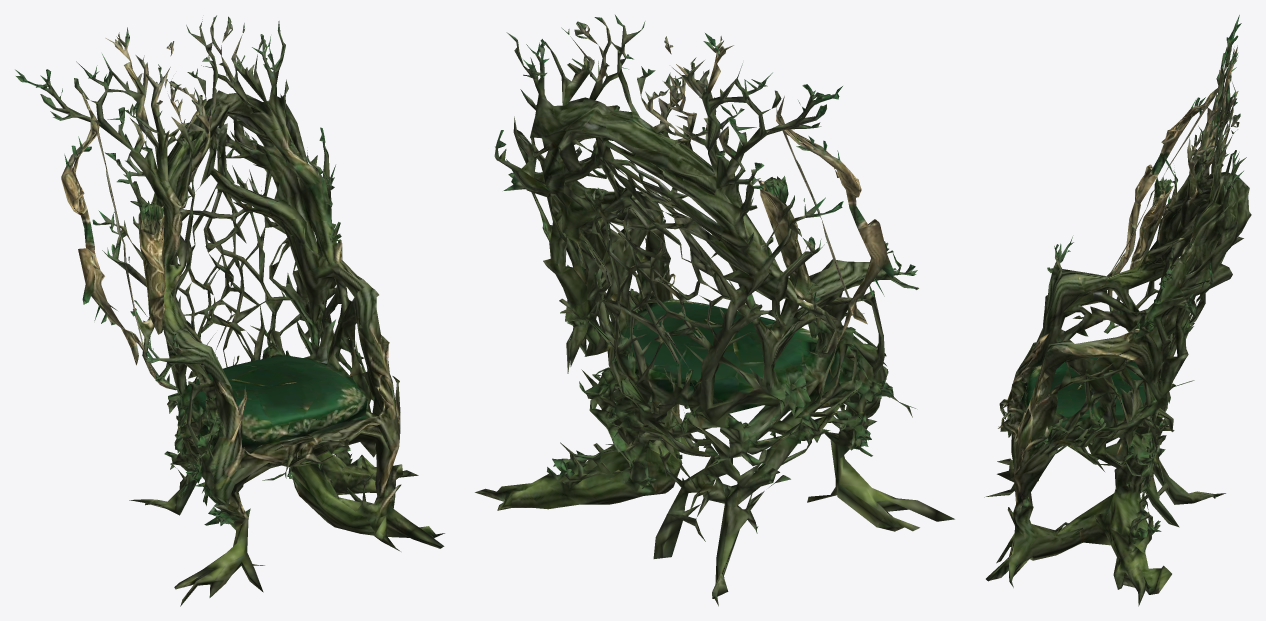
File: chair.glb
3 renders of one model, left to right at view 1: azimuth 30°, elevation 25°; view 2: azimuth 150°, elevation 25°; view 3: azimuth 270°, elevation 25°, orthographic. The views are drawn at different scales.
Bounding box in the file's own units: 1.48 × 1.89 × 1.03.
Materials: 1 (1 with a texture image).
